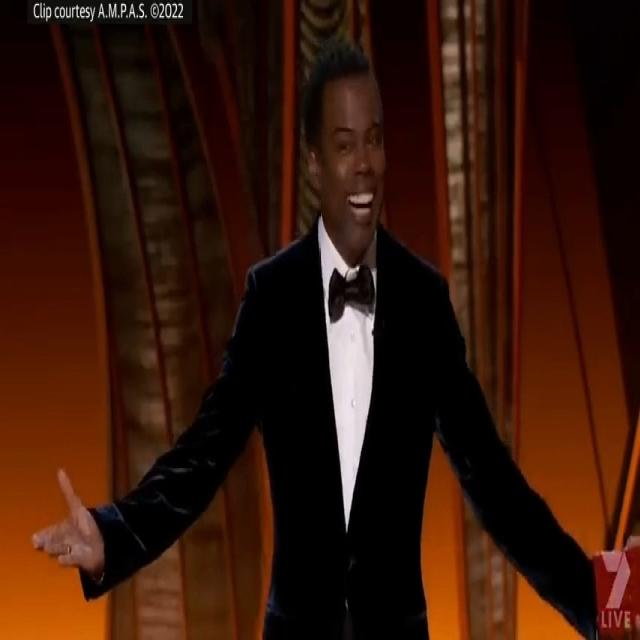non-fight: (15, 33, 610, 640)
